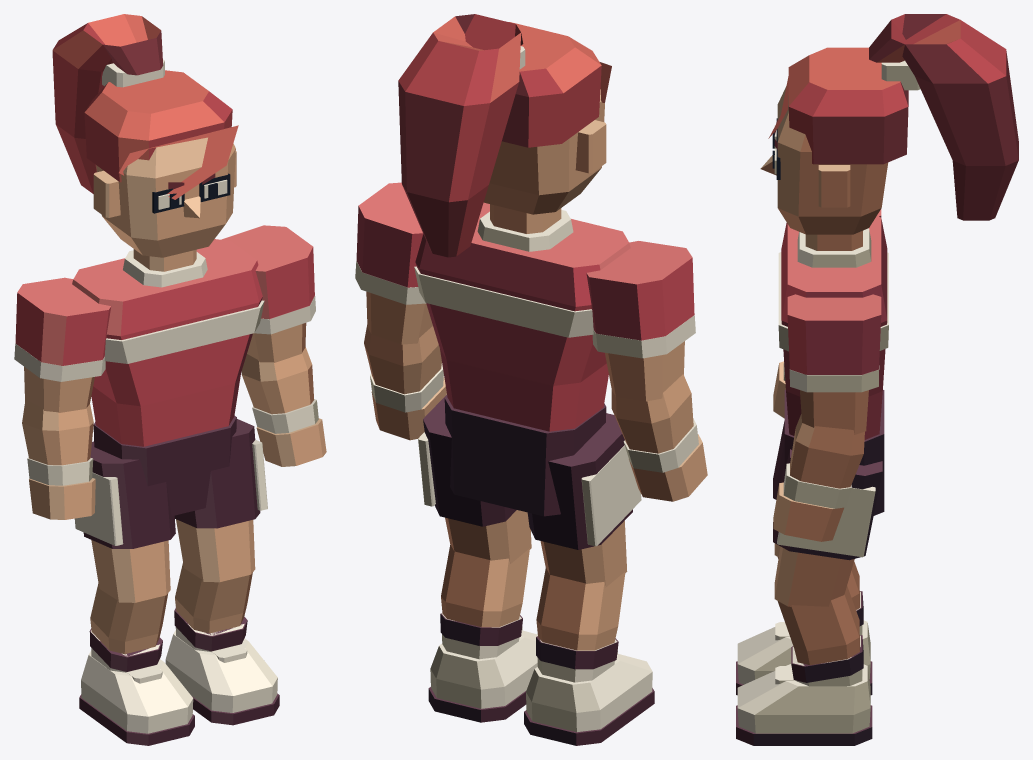
File: bolt-preview.glb
The picture shows the model from 3 angles, left to right: view 1: azimuth 30°, elevation 25°; view 2: azimuth 150°, elevation 25°; view 3: azimuth 270°, elevation 25°; orthographic projection. The views are drawn at different scales.
Visible parts, largest first — view 1: Jersey, HairCap, Head, Ponytail, Sleeve.R, ShortsWaist, Boot.R, Boot.L, Sleeve.L, Shorts.R, Shorts.L, ChestBand (+25 smaller); view 2: Jersey, Ponytail, ShortsWaist, HairCap, Sleeve.R, Boot.R, Head, Calf.L, Calf.R, Boot.L, Sleeve.L, Shorts.R (+25 smaller); view 3: Ponytail, HairCap, Sleeve.L, Head, Boot.L, Jersey, Calf.L, Forearm.L, Thigh.L, ShortsStripe.L, Boot.R, UpperArm.L (+15 smaller).
Boxes of the visible parts, box(x1,y1,x2,y2) form: Jersey: box(72, 239, 262, 446); HairCap: box(84, 70, 232, 182); Head: box(96, 137, 235, 257); Ponytail: box(52, 14, 163, 193); Sleeve.R: box(15, 277, 111, 365); ShortsWaist: box(93, 415, 236, 515); Boot.R: box(81, 650, 193, 733); Boot.L: box(165, 630, 277, 712); Sleeve.L: box(221, 225, 314, 319); Shorts.R: box(83, 441, 175, 548); Shorts.L: box(174, 419, 260, 528); ChestBand: box(104, 300, 264, 363); Jersey: box(415, 202, 630, 431); Ponytail: box(398, 14, 523, 257); ShortsWaist: box(444, 396, 606, 516); HairCap: box(502, 22, 601, 147); Sleeve.R: box(586, 241, 694, 340); Boot.R: box(526, 653, 652, 732); Head: box(483, 89, 604, 214); Calf.L: box(441, 544, 529, 627); Calf.R: box(536, 568, 625, 650); Boot.L: box(430, 630, 537, 708); Sleeve.L: box(356, 182, 423, 287); Shorts.R: box(527, 413, 632, 549); Ponytail: box(869, 14, 1018, 220); HairCap: box(788, 47, 908, 164); Sleeve.L: box(787, 294, 881, 374); Head: box(777, 86, 888, 234); Boot.L: box(737, 664, 870, 733); Jersey: box(781, 216, 887, 439); Calf.L: box(777, 586, 859, 665); Forearm.L: box(790, 414, 864, 488); Thigh.L: box(774, 546, 854, 606); ShortsStripe.L: box(777, 486, 875, 557); Boot.R: box(737, 620, 870, 684); UpperArm.L: box(800, 390, 868, 434).
Size of the model in its own units: 1.04 by 2.27 by 0.8601.
